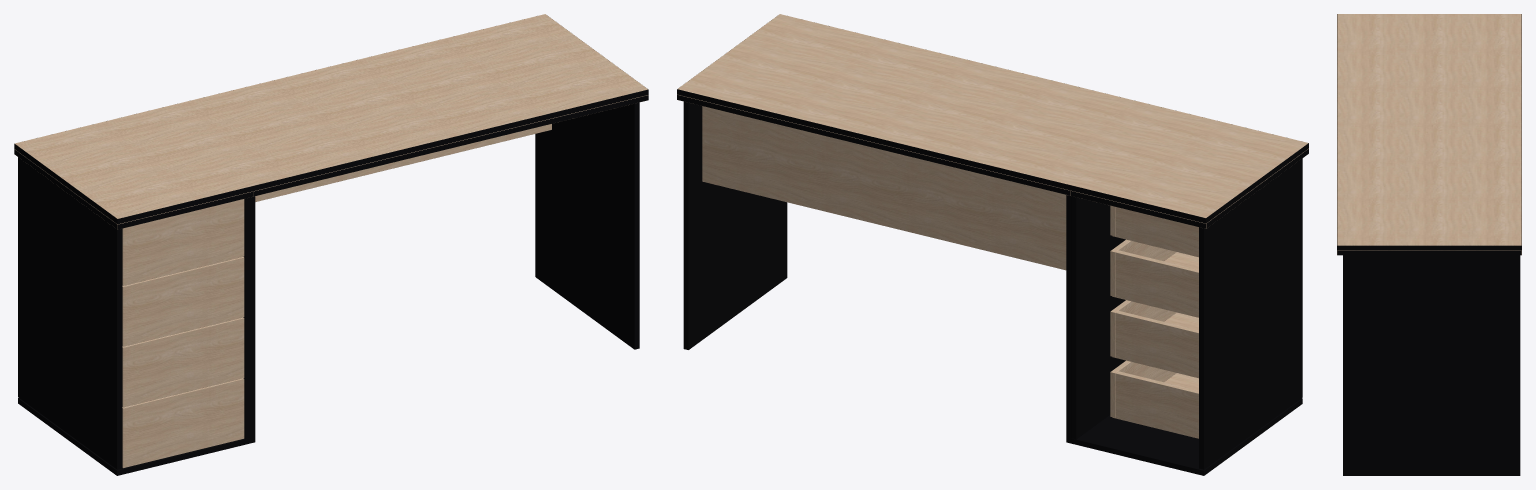
File: mueble_04.glb
The picture shows the model from 3 angles, left to right: view 1: azimuth 30°, elevation 25°; view 2: azimuth 150°, elevation 25°; view 3: azimuth 270°, elevation 25°; orthographic projection. The views are drawn at different scales.
Parts seen in each view (by area): view 1: Mesh74, Mesh111, Mesh112, Drawer_4, Drawer_2, Drawer_1, Drawer_3, Mesh75, Mesh76, Mesh102, Mesh101, Mesh72 (+1 smaller); view 2: Mesh74, Mesh76, Mesh111, Mesh112, Mesh102, Drawer_4, Drawer_1, Drawer_2, Mesh101, Drawer_3, Mesh75, Mesh72 (+1 smaller); view 3: Mesh74, Mesh112, Mesh75.
Boxes of the visible parts, bbox=[...] form: Mesh74: bbox=[14, 14, 648, 224]; Mesh111: bbox=[18, 157, 122, 469]; Mesh112: bbox=[535, 102, 639, 349]; Drawer_4: bbox=[122, 317, 244, 407]; Drawer_2: bbox=[122, 378, 244, 468]; Drawer_1: bbox=[122, 257, 244, 346]; Drawer_3: bbox=[122, 199, 244, 285]; Mesh75: bbox=[253, 95, 648, 196]; Mesh76: bbox=[255, 124, 551, 201]; Mesh102: bbox=[243, 197, 250, 439]; Mesh101: bbox=[18, 398, 250, 475]; Mesh72: bbox=[250, 196, 255, 443]; Mesh74: bbox=[677, 14, 1308, 223]; Mesh76: bbox=[702, 106, 1066, 270]; Mesh111: bbox=[1199, 158, 1302, 469]; Mesh112: bbox=[683, 101, 787, 349]; Mesh102: bbox=[1071, 196, 1125, 439]; Drawer_4: bbox=[1110, 300, 1198, 378]; Drawer_1: bbox=[1110, 239, 1198, 317]; Drawer_2: bbox=[1110, 360, 1198, 438]; Mesh101: bbox=[1071, 398, 1302, 475]; Drawer_3: bbox=[1110, 205, 1198, 257]; Mesh75: bbox=[677, 94, 1070, 195]; Mesh72: bbox=[1066, 195, 1071, 443]; Mesh74: bbox=[1337, 14, 1521, 250]; Mesh112: bbox=[1343, 255, 1520, 475]; Mesh75: bbox=[1337, 250, 1521, 255].
Bounding box in the file's own units: 1.86 × 0.868 × 0.625.
Materials: 2 (2 with a texture image).
